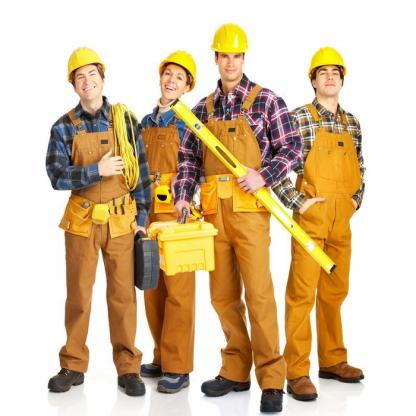capacete: (64, 43, 107, 106), (210, 20, 250, 82), (306, 44, 348, 101), (158, 48, 197, 107)
sem_colete_refletivo: (174, 78, 302, 214), (44, 102, 150, 236), (277, 99, 367, 207), (137, 100, 191, 225)
